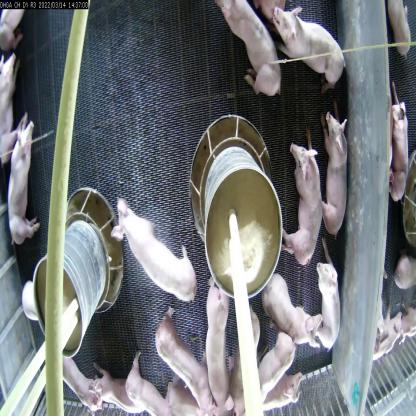Pig: (108, 180, 200, 305), (150, 298, 218, 411), (268, 0, 348, 93), (210, 0, 287, 96), (200, 256, 238, 412), (0, 111, 43, 246), (283, 140, 322, 269), (270, 260, 322, 348), (52, 345, 104, 412), (385, 79, 412, 208), (121, 350, 173, 415), (311, 252, 342, 356), (253, 324, 292, 398), (0, 43, 23, 168), (322, 105, 345, 227), (91, 359, 136, 415), (263, 368, 312, 415)
